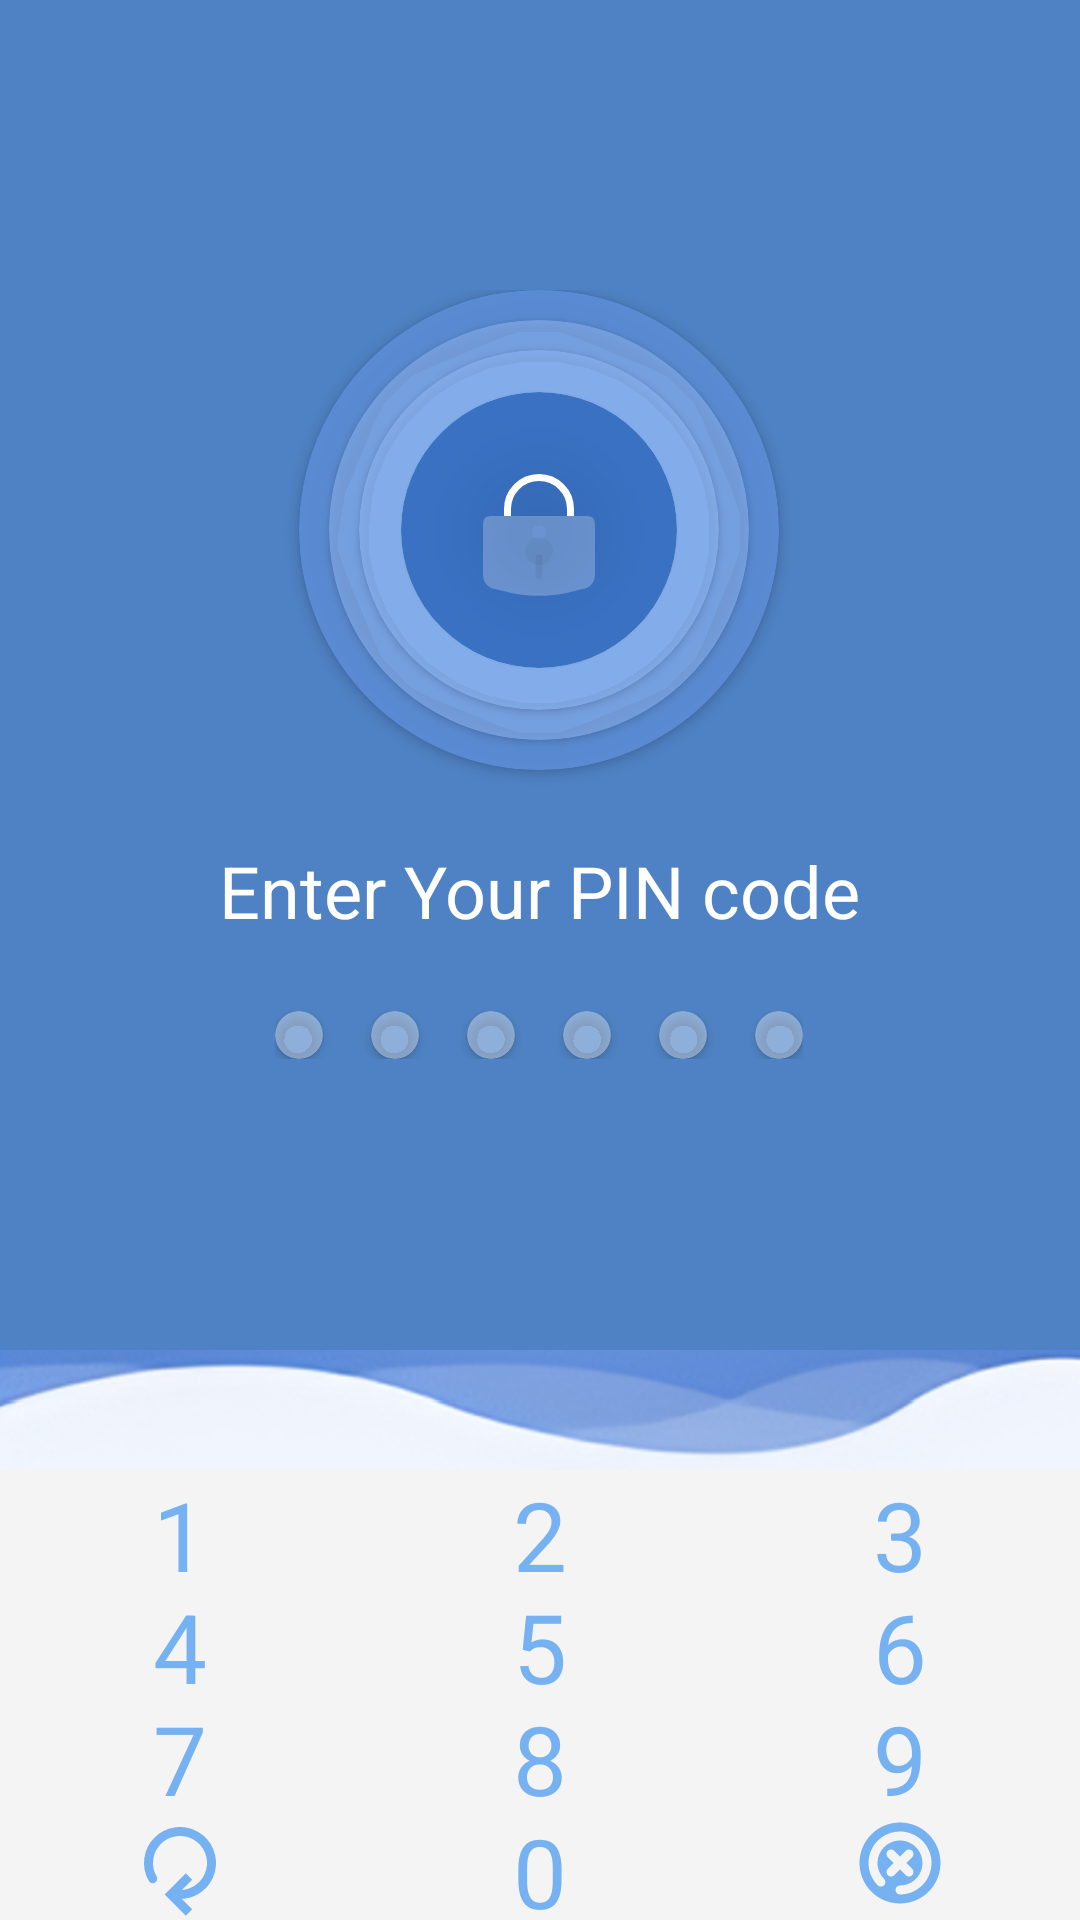

Icons on this 1080px×1920px Android screen, each with its box as (x1, y1, x2, y2):
lock duotone: (483, 474, 595, 596)
refresh: (144, 1827, 216, 1916)
remove: (859, 1822, 941, 1904)
